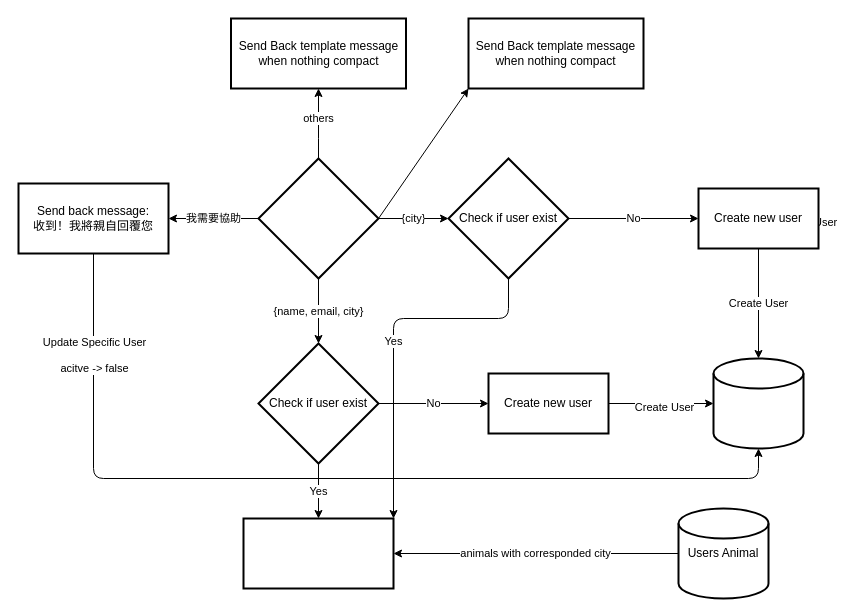
Some shapes in this 854 by 616 pixel diagram are drawn without their labels. Here are the shapes that lost their labels. From the top down, the centre of each, then its label:
At [318,218]: "Msg Received From client".
At [758,403]: "Users Table".
At [318,553]: "Send Animal Data Back to user who sent the msg".
